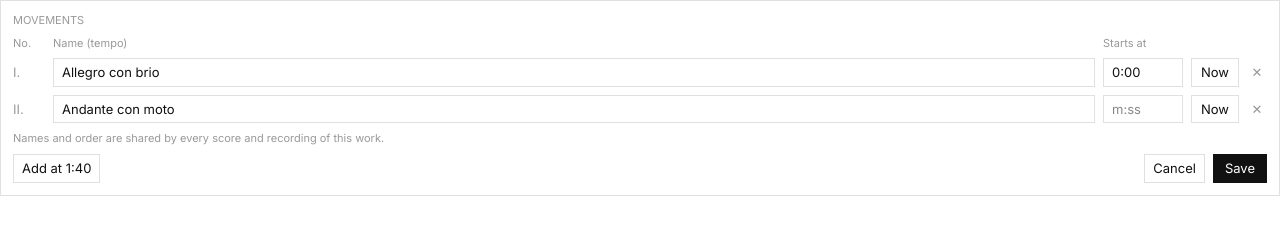
Test: RecordingMovementEditor (YouTube) › adds a movement at the current time after earlier ones
Click the button "Add at 1:40" at (57, 168), box [13,154,100,183]
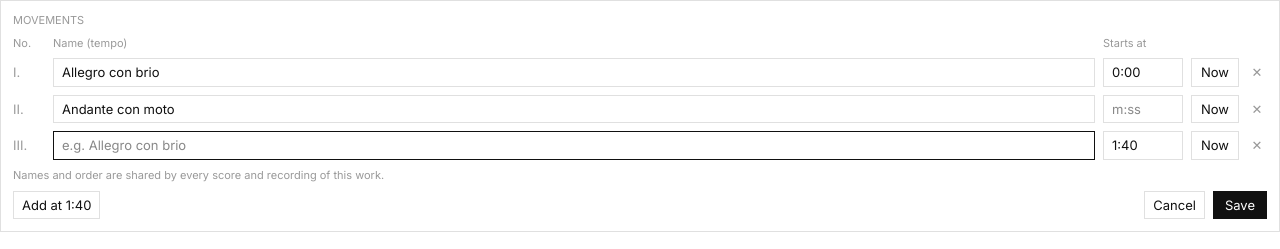
Now the field named "Movement III start time" holds "1:40", box [1103,131,1183,160]
